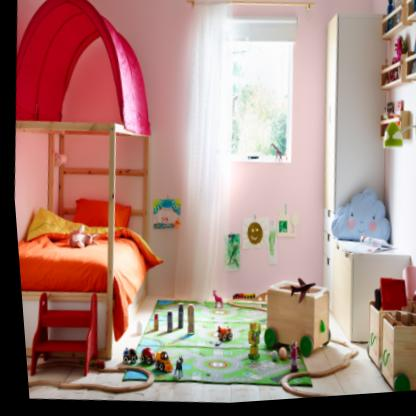Bed: (11, 180, 157, 368)
